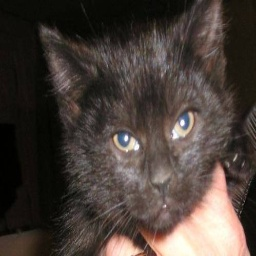cat: (36, 5, 254, 256)
